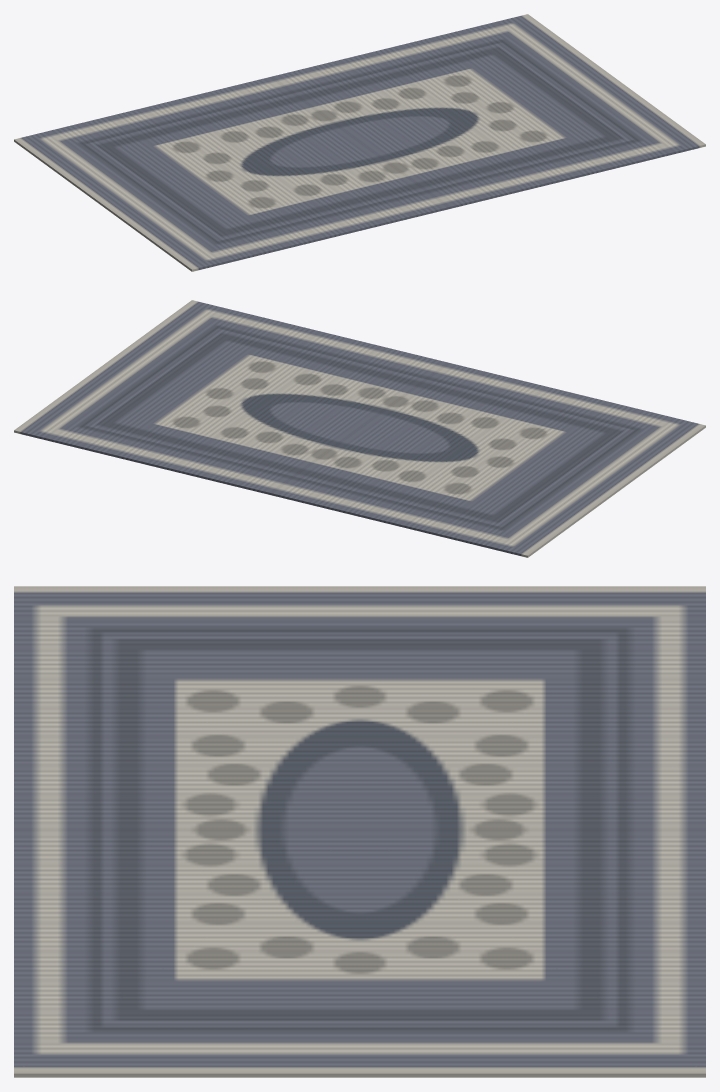
Rendered from AIR0110005.fbx.
The picture shows the model from 3 angles, top to bottom: view 1: azimuth 30°, elevation 25°; view 2: azimuth 150°, elevation 25°; view 3: azimuth 270°, elevation 25°; orthographic projection. The views are drawn at different scales.
Parts seen in each view (by area): view 1: smAIR0110005; view 2: smAIR0110005; view 3: smAIR0110005.
Boxes of the visible parts, <box> form: smAIR0110005: <box>14,14,705,271</box>; smAIR0110005: <box>14,300,705,557</box>; smAIR0110005: <box>14,586,705,1077</box>.
Bounding box in the file's own units: 250 × 1 × 150.
1 material, 1 textured.
